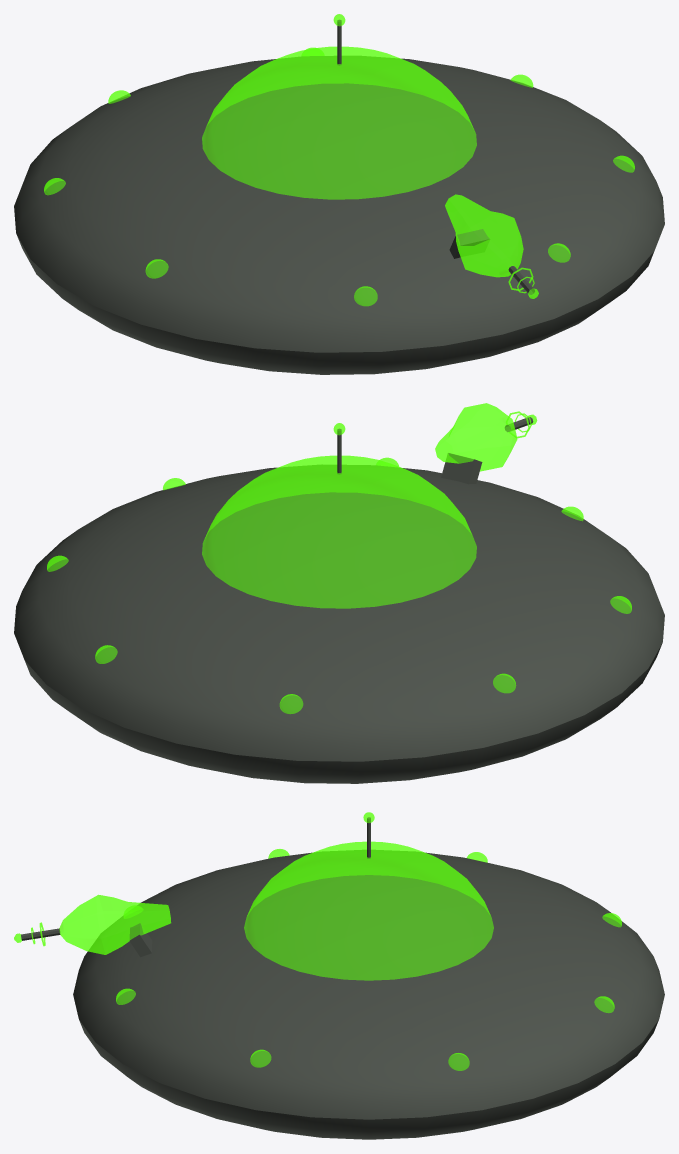
Rendered from Ufo 2.fbx.
The picture shows the model from 3 angles, top to bottom: view 1: azimuth 30°, elevation 25°; view 2: azimuth 150°, elevation 25°; view 3: azimuth 270°, elevation 25°; orthographic projection. The views are drawn at different scales.
Parts seen in each view (by area): view 1: Sphere.001, Sphere.002, Ufo.003, Sphere.003; view 2: Sphere.001, Sphere.002, Ufo.003, Sphere.003; view 3: Sphere.001, Sphere.002, Ufo.003, Sphere.003.
Boxes of the visible parts, <box> form: Sphere.001: <box>14,56,664,374</box>; Sphere.002: <box>202,46,476,199</box>; Ufo.003: <box>445,194,538,298</box>; Sphere.003: <box>44,47,634,306</box>; Sphere.001: <box>14,465,664,783</box>; Sphere.002: <box>202,455,476,608</box>; Ufo.003: <box>435,403,537,484</box>; Sphere.003: <box>47,457,631,713</box>; Sphere.001: <box>73,850,664,1139</box>; Sphere.002: <box>244,841,493,980</box>; Ufo.003: <box>14,894,171,957</box>; Sphere.003: <box>116,849,621,1070</box>.
Bounding box in the file's own units: 1000 × 477 × 1100.
